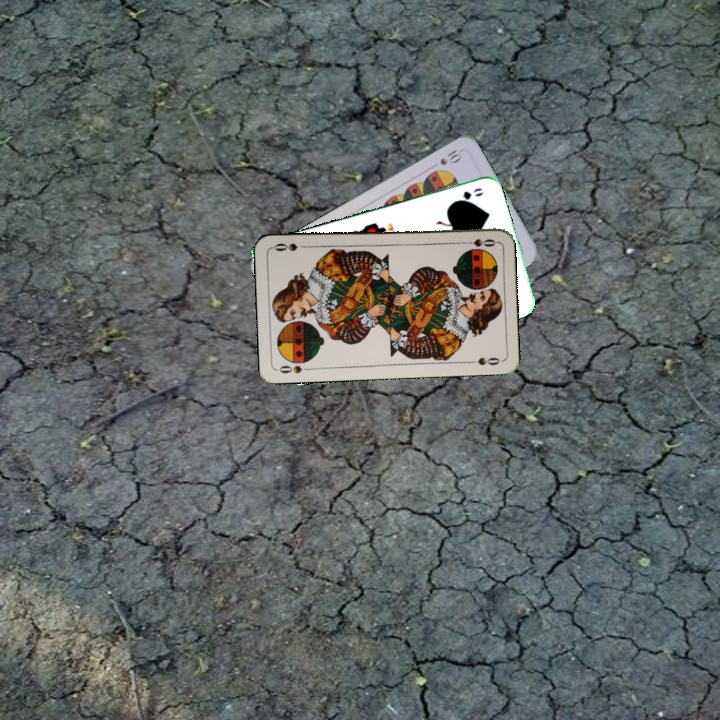GO: (447, 184, 486, 207)
S10: (436, 145, 463, 168)
SO: (458, 234, 498, 249), (275, 361, 315, 376)
